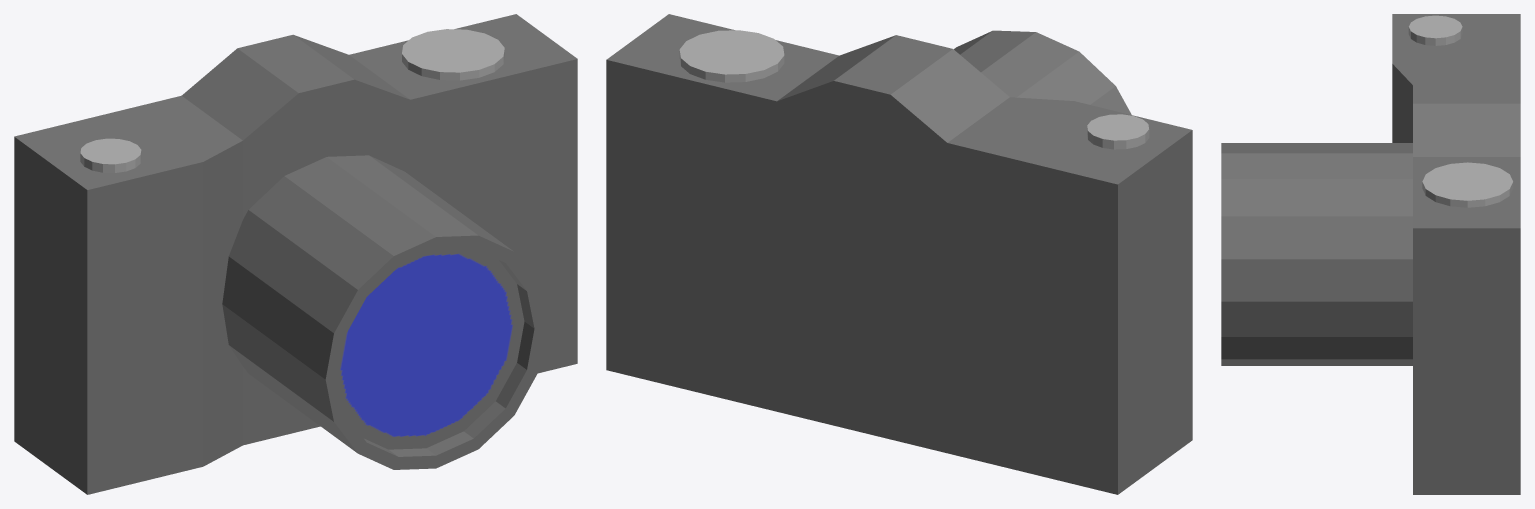
Rendered from camera.glb.
3 views of the same model, side by side, from view 1: azimuth 30°, elevation 25°; view 2: azimuth 150°, elevation 25°; view 3: azimuth 270°, elevation 25° (orthographic). The views are drawn at different scales.
Parts seen in each view (by area): view 1: Cube; view 2: Cube; view 3: Cube.
Part boxes in pixels (<box>): Cube: <box>14,14,577,494</box>; Cube: <box>606,14,1192,494</box>; Cube: <box>1221,14,1520,494</box>.
Size of the model in its own units: 2 by 1.29 by 1.18.
1 material, 1 textured.
